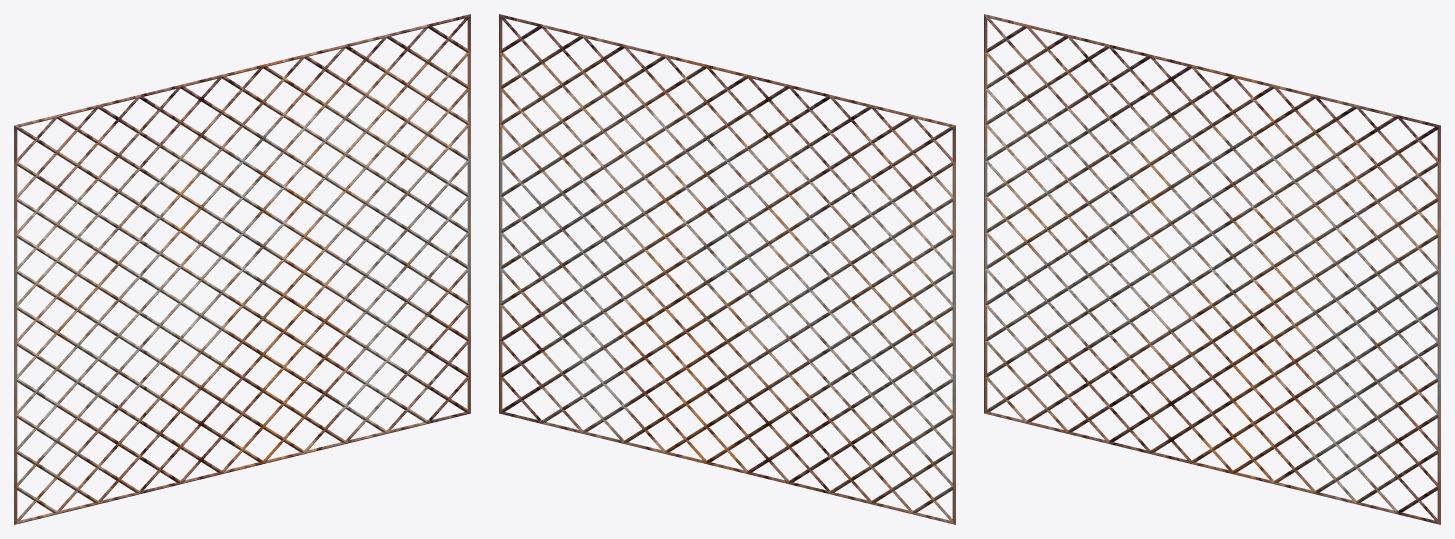
File: Fence.fbx
3 views of the same model, side by side, from view 1: azimuth 30°, elevation 25°; view 2: azimuth 150°, elevation 25°; view 3: azimuth 330°, elevation 25° (orthographic).
Visible parts, largest first — view 1: Plane; view 2: Plane; view 3: Plane.
Part boxes in pixels (x1,y1,x2,y2): Plane: (14,14,470,524); Plane: (499,14,955,524); Plane: (984,14,1440,524).
Bounding box in the file's own units: 1325 × 1107 × 7.85.
1 material, 1 textured.
